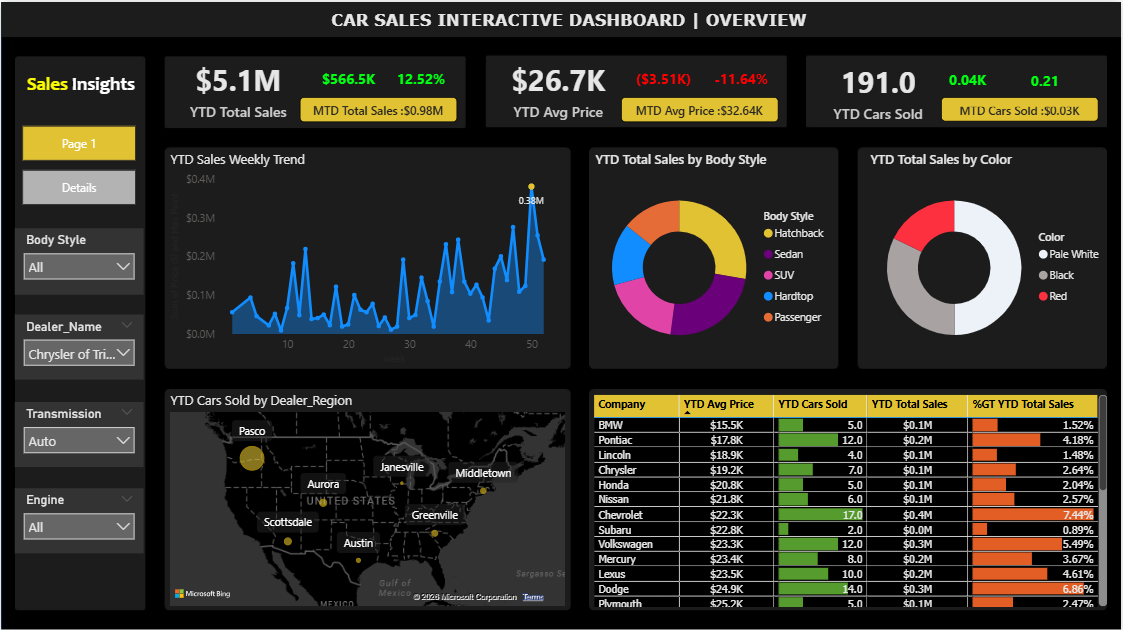

What the dashboard file says about the page in this screenshot:
{"tool":"powerbi","page":{"name":"Page 1","canvas":[1280,720],"ordinal":0},"visuals":[{"type":"card","fields":{"Values":["car_data.YTD Total Sales"]},"box":[145.5,63.1,251.1,75.5],"z":0},{"type":"card","fields":{"Values":["car_data.Sales Difference"]},"box":[247,63.1,300.5,53.5],"z":1000},{"type":"card","fields":{"Values":["car_data.YoY Sales Growth"]},"box":[330.7,63.1,300.5,53.5],"z":2000},{"type":"card","fields":{"Values":["car_data.MTD KPI"]},"box":[341.7,108.4,179.8,28.8],"z":3000},{"type":"card","fields":{"Values":["car_data.YTD Avg Price"]},"box":[511.8,61.7,251.1,78.2],"z":4000},{"type":"card","fields":{"Values":["car_data.Avg Price Diff"]},"box":[606.5,63.1,300.5,53.5],"z":5000},{"type":"card","fields":{"Values":["car_data.YoY Avg Price Growth"]},"box":[695.7,63.1,300.5,53.5],"z":6000},{"type":"card","fields":{"Values":["car_data.MTD Avg Price KPI"]},"box":[708.1,108.4,179.8,28.8],"z":7000},{"type":"card","fields":{"Values":["car_data.YTD Cars Sold"]},"box":[876.8,63.1,251.1,78.2],"z":8000},{"type":"card","fields":{"Values":["car_data.Cars Sold Diff"]},"box":[954.8,64.6,301.2,53.8],"z":9000},{"type":"card","fields":{"Values":["car_data.YoY Car Sold Growth"]},"box":[1105.2,65.9,174.8,53.8],"z":10000},{"type":"card","fields":{"Values":["car_data.MTD Cars Sold KPI"]},"box":[1074.5,108.9,180.2,28.2],"z":11000},{"type":"areaChart","title":"YTD Sales Weekly Trend ","fields":{"Category":["calendar table.week"],"Y":["Sum(car_data.Price ($))","car_data.Max Point"]},"box":[188.5,168.5,460.8,250.8],"z":12000},{"type":"donutChart","fields":{"Category":["car_data.Body Style"],"Y":["car_data.YTD Total Sales"]},"box":[674.3,168.6,280,251.4],"z":13000},{"type":"donutChart","fields":{"Y":["car_data.YTD Total Sales"],"Category":["car_data.Color"]},"box":[988.6,168.6,280,251.4],"z":14000},{"type":"map","fields":{"Category":["car_data.Dealer_Region"],"Size":["car_data.YTD Cars Sold"]},"box":[188.6,444.3,461.4,251.4],"z":15000},{"type":"tableEx","fields":{"Values":["car_data.Company","car_data.YTD Avg Price","car_data.YTD Cars Sold","car_data.YTD Total Sales1","car_data.YTD Total Sales"]},"box":[671.2,443.8,597.5,251.2],"z":16000},{"type":"textbox","box":[317.1,4.3,664.3,65.7],"z":17000},{"type":"slicer","fields":{"Values":["car_data.Body Style"]},"box":[15.7,258.6,147.1,75.7],"z":18000},{"type":"slicer","fields":{"Values":["car_data.Dealer_Name"]},"box":[15.7,357.1,147.1,74.3],"z":19000},{"type":"slicer","fields":{"Values":["car_data.Transmission"]},"box":[15.7,457.1,147.1,74.3],"z":20000},{"type":"slicer","fields":{"Values":["car_data.Engine"]},"box":[15.7,555.7,147.1,74.3],"z":21000},{"type":"textbox","box":[24.3,75.7,300,51.4],"z":21001},{"type":"pageNavigator","box":[24.3,141.4,130,90],"z":21002}]}

Visuals, with their boxes in screenshot pixels (x1, y1, x2, y2), scaled from the page's 1280x720 canvas onto the 1123x630 screenshot:
card - car_data.YTD Total Sales: (128,55,348,121)
card - car_data.Sales Difference: (217,55,480,102)
card - car_data.YoY Sales Growth: (290,55,554,102)
card - car_data.MTD KPI: (300,95,458,120)
card - car_data.YTD Avg Price: (449,54,669,122)
card - car_data.Avg Price Diff: (532,55,796,102)
card - car_data.YoY Avg Price Growth: (610,55,874,102)
card - car_data.MTD Avg Price KPI: (621,95,779,120)
card - car_data.YTD Cars Sold: (769,55,990,124)
card - car_data.Cars Sold Diff: (838,57,1102,104)
card - car_data.YoY Car Sold Growth: (970,58,1122,105)
card - car_data.MTD Cars Sold KPI: (943,95,1101,120)
"YTD Sales Weekly Trend " areaChart: (165,147,570,367)
donutChart - car_data.Body Style x car_data.YTD Total Sales: (592,148,837,368)
donutChart - car_data.YTD Total Sales x car_data.Color: (867,148,1113,368)
map - car_data.Dealer_Region x car_data.YTD Cars Sold: (165,389,570,609)
tableEx - car_data.Company x car_data.YTD Avg Price: (589,388,1113,608)
textbox: (278,4,861,61)
slicer - car_data.Body Style: (14,226,143,293)
slicer - car_data.Dealer_Name: (14,312,143,377)
slicer - car_data.Transmission: (14,400,143,465)
slicer - car_data.Engine: (14,486,143,551)
textbox: (21,66,285,111)
pageNavigator: (21,124,135,202)
